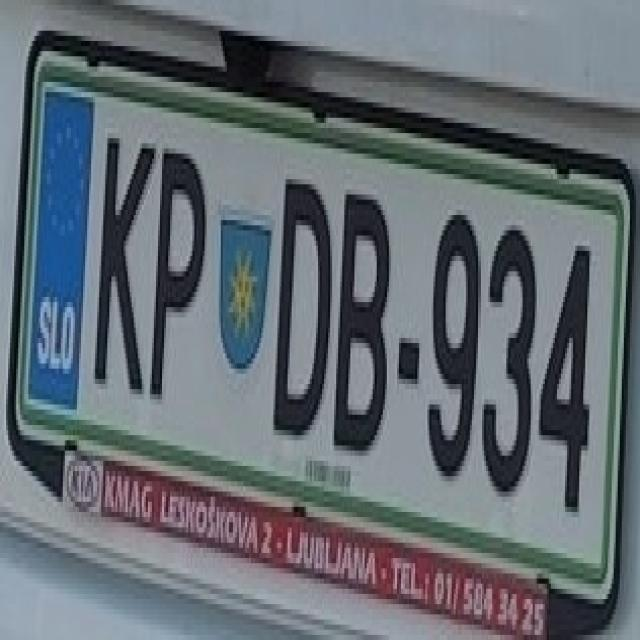3: (470, 204, 547, 492)
4: (528, 225, 604, 507)
9: (413, 199, 490, 482)
B: (332, 174, 399, 456)
D: (266, 158, 338, 450)
K: (85, 123, 156, 394)
P: (140, 128, 212, 404)
